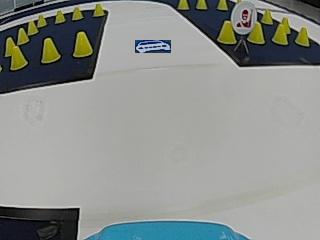evil: (230, 2, 256, 33)
